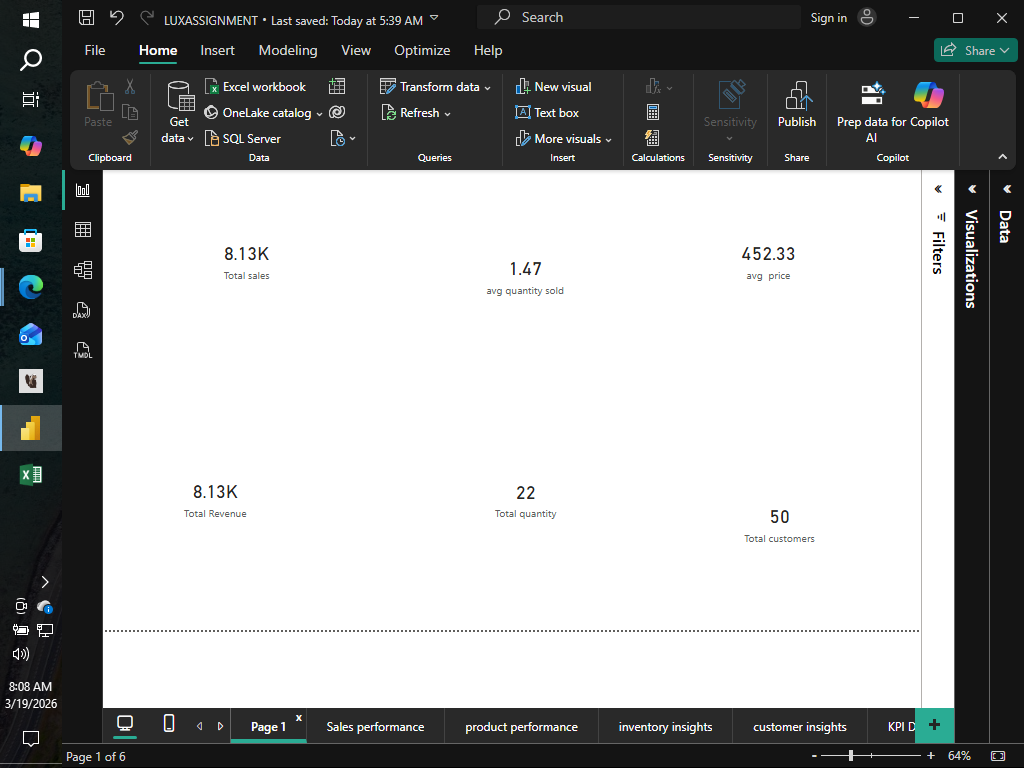

This screenshot's page, from the dashboard's own definition file:
{"tool":"powerbi","page":{"name":"Page 1","canvas":[1280,720],"ordinal":0},"visuals":[{"type":"card","fields":{"Values":["Fact sales.Total sales"]},"box":[9.7,0,430.7,279.8],"z":0},{"type":"card","fields":{"Values":["Fact sales.Total quantity"]},"box":[502.9,346.7,318.1,331.4],"z":1000},{"type":"card","fields":{"Values":["Fact sales.avg quantity sold"]},"box":[457.1,22.9,407.6,280],"z":2000},{"type":"card","fields":{"Values":["Dim products.Total Revenue"]},"box":[36.5,333.4,279.8,357.7],"z":3000},{"type":"card","fields":{"Values":["Dim products.avg  price"]},"box":[820.1,0,442.9,279.8],"z":4000},{"type":"card","fields":{"Values":["Dim customers.Total customers"]},"box":[837.1,411.3,442.9,279.8],"z":5000}]}

Visuals, with their boxes on the page's 1280x720 design canvas (x1, y1, x2, y2). These are canvas units, not pixel positions in the 1024x768 screenshot, which may show the page scaled, cropped or inside an application window:
card - Fact sales.Total sales: {"x1": 10, "y1": 0, "x2": 440, "y2": 280}
card - Fact sales.Total quantity: {"x1": 503, "y1": 347, "x2": 821, "y2": 678}
card - Fact sales.avg quantity sold: {"x1": 457, "y1": 23, "x2": 865, "y2": 303}
card - Dim products.Total Revenue: {"x1": 36, "y1": 333, "x2": 316, "y2": 691}
card - Dim products.avg  price: {"x1": 820, "y1": 0, "x2": 1263, "y2": 280}
card - Dim customers.Total customers: {"x1": 837, "y1": 411, "x2": 1280, "y2": 691}
